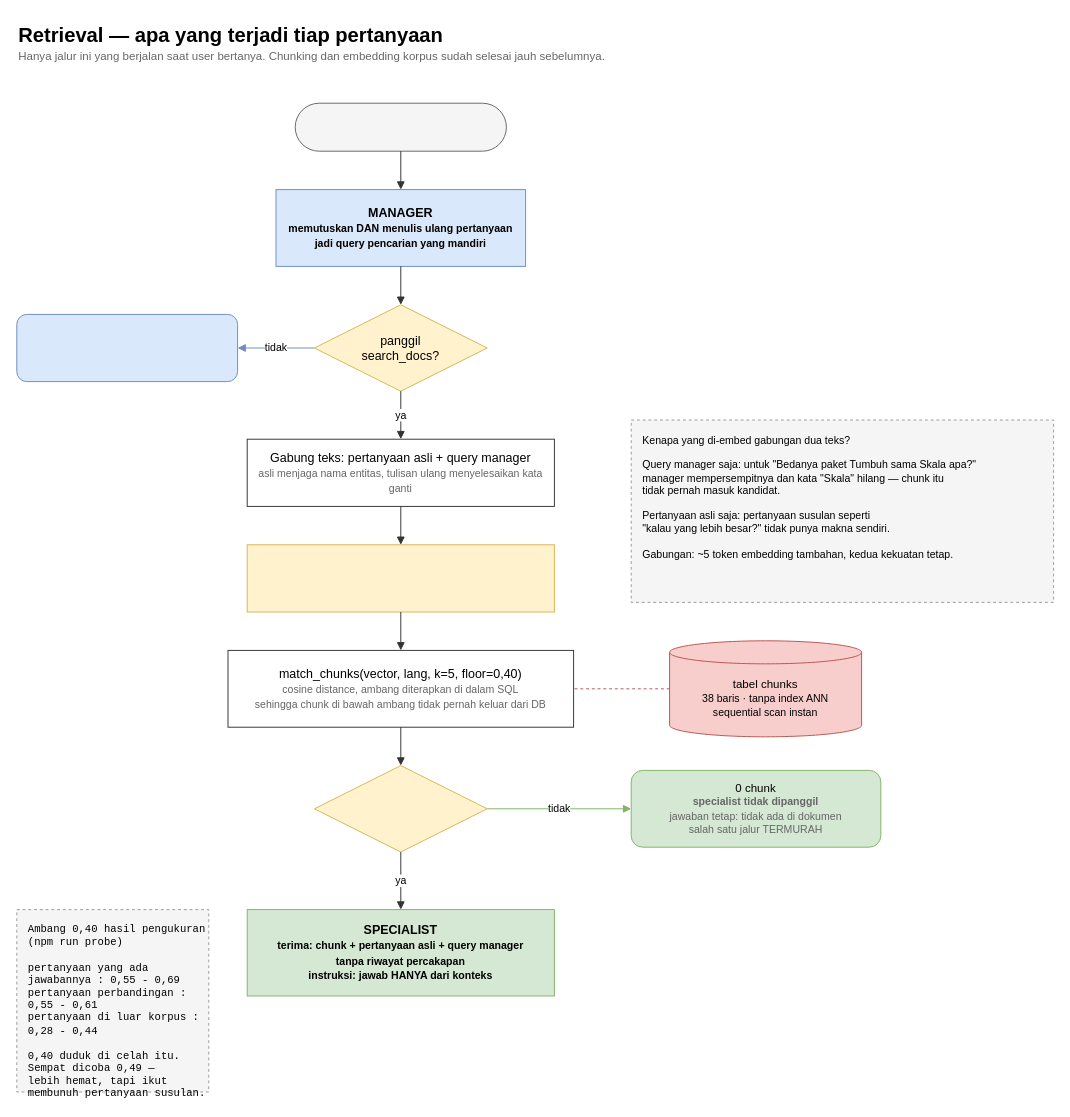
Some shapes in this 1070 by 1117 pixel diagram are drawn without their labels. Here are the shapes that lost their labels. From the top down, the centre of each, then its label:
At pixel 400 126: "Pertanyaan user".
At pixel 127 347: "Selesai tanpa retrieval pengetahuan umum atau penolakan".
At pixel 400 578: "Embed query 1 panggilan · ~15 token dicatat di kolom embed_tokens sendiri".
At pixel 400 808: "ada chunk yang lolos?".
